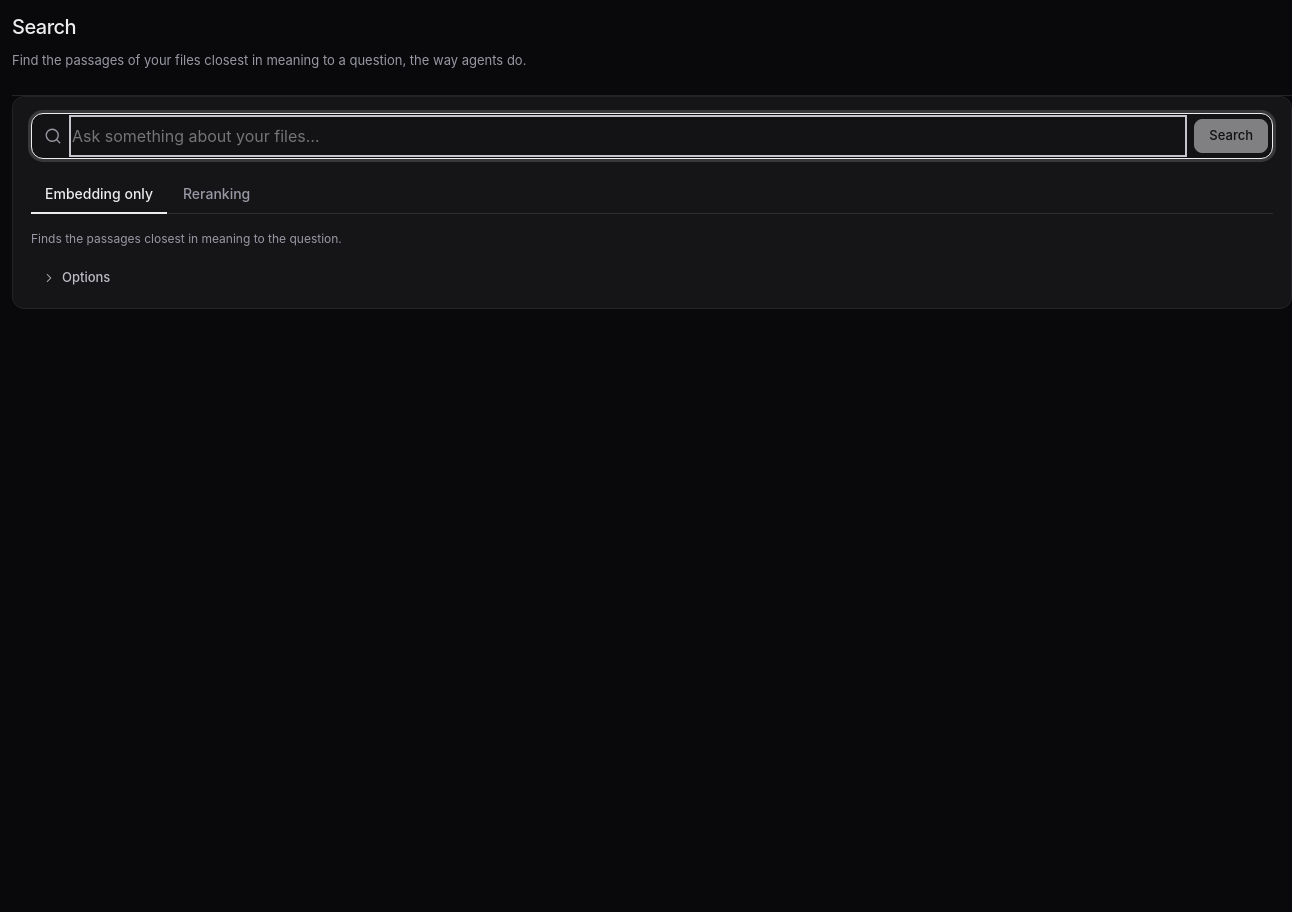
SearchPage › sends the reranking settings and shows results with their cross-encoder score
Click the tab "Reranking" at (217, 194), box x1=169 y1=175 x2=264 y2=214
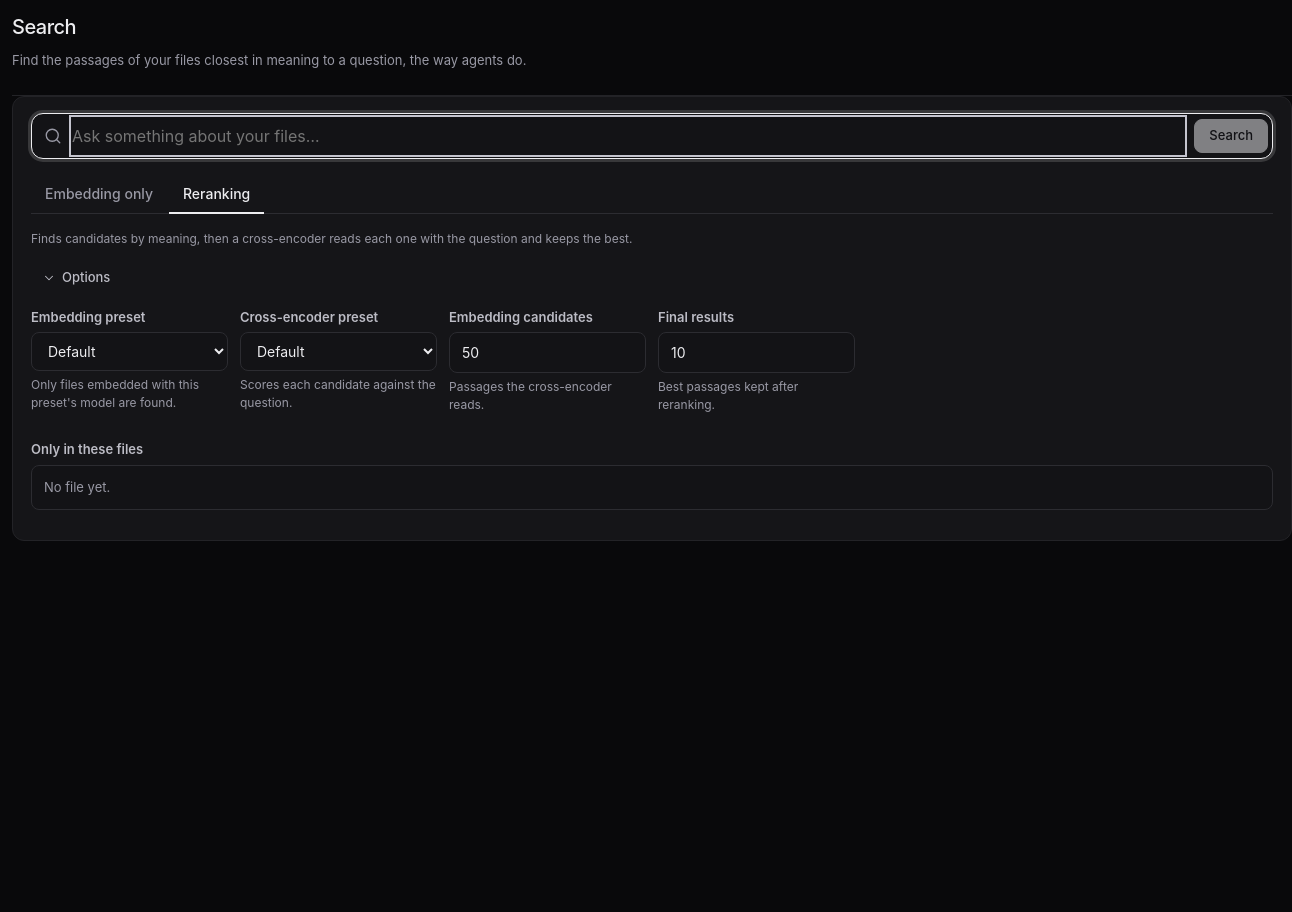
Select "reranker" in the dropdown labelled "Cross-encoder preset" at (338, 352), box x1=240 y1=332 x2=437 y2=371
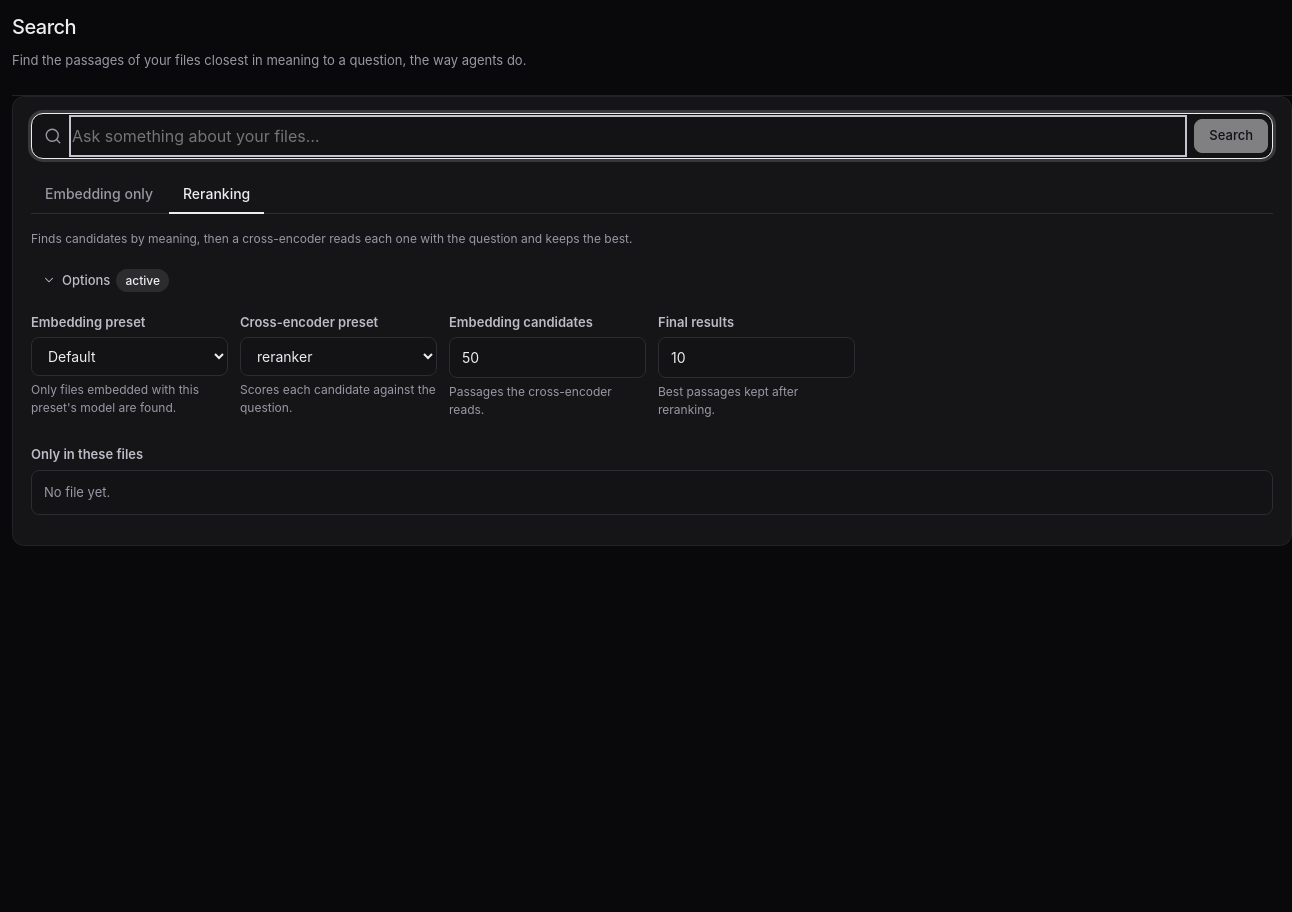
Replace the text in the number field labelled "Embedding candidates" with "30" at (548, 358), box x1=449 y1=338 x2=646 y2=378
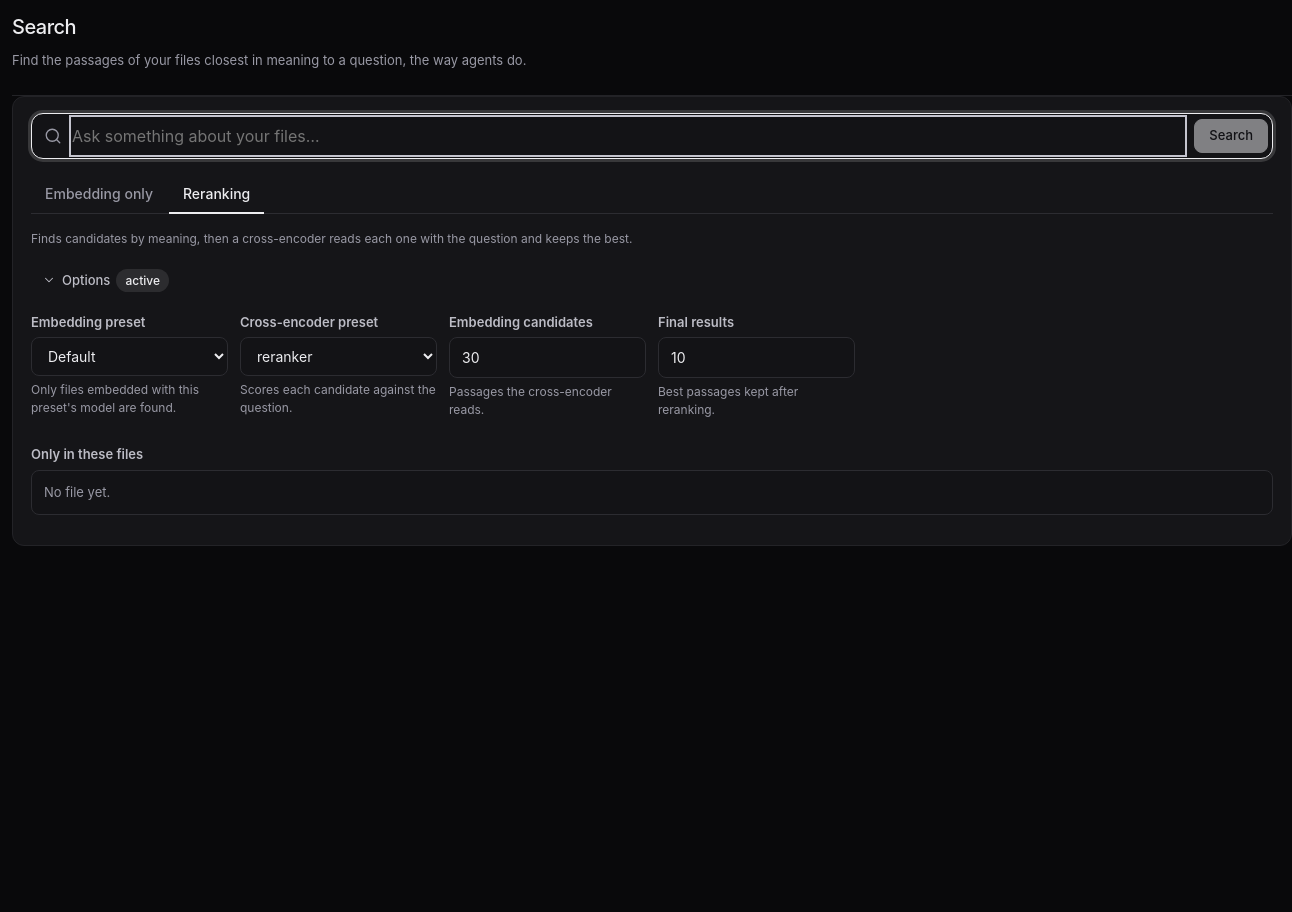
Replace the text in the number field labelled "Final results" with "5" at (756, 358), box x1=658 y1=338 x2=855 y2=378
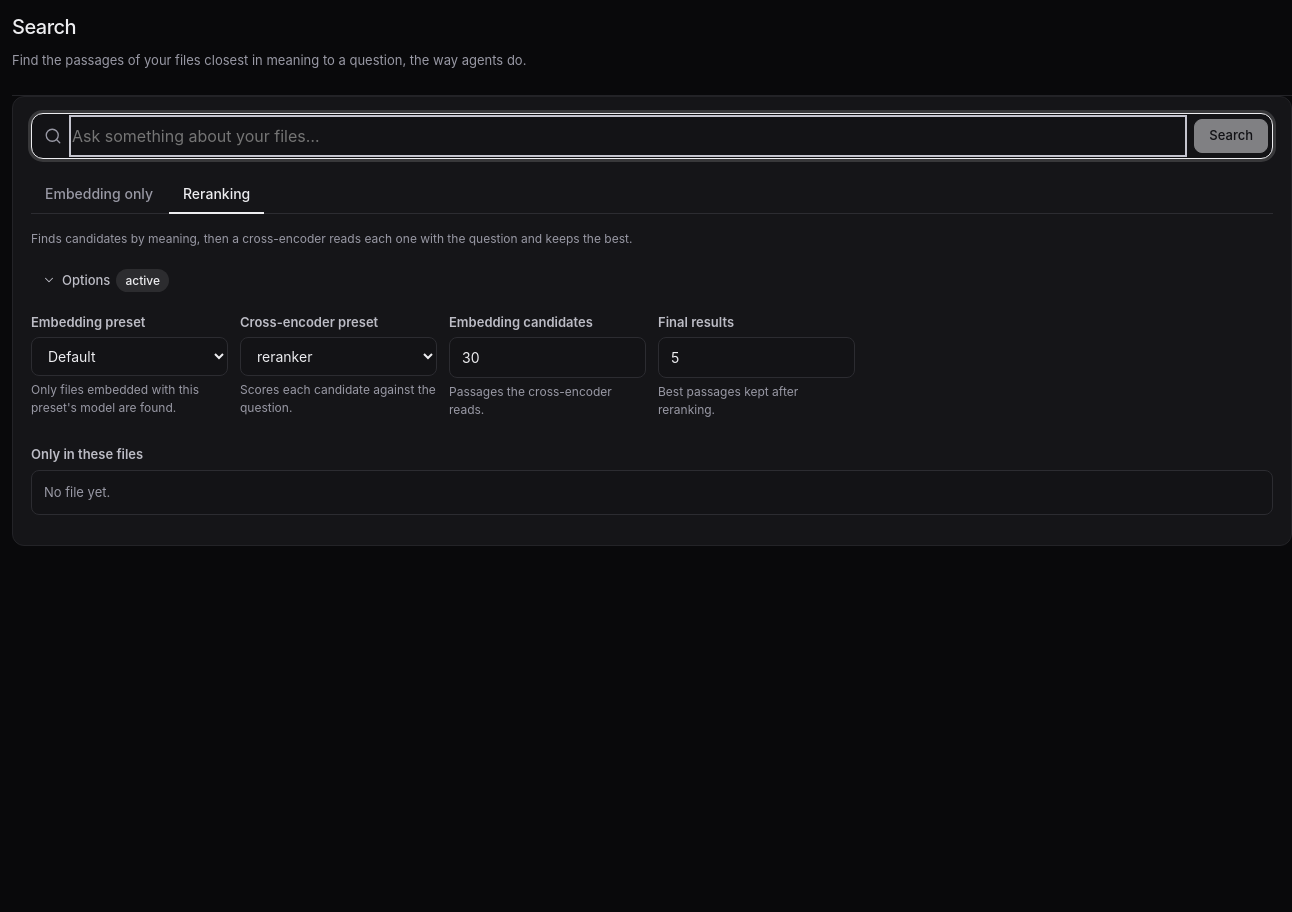
Type "green tea" into the field named "Search" at (628, 136), box x1=72 y1=118 x2=1184 y2=154
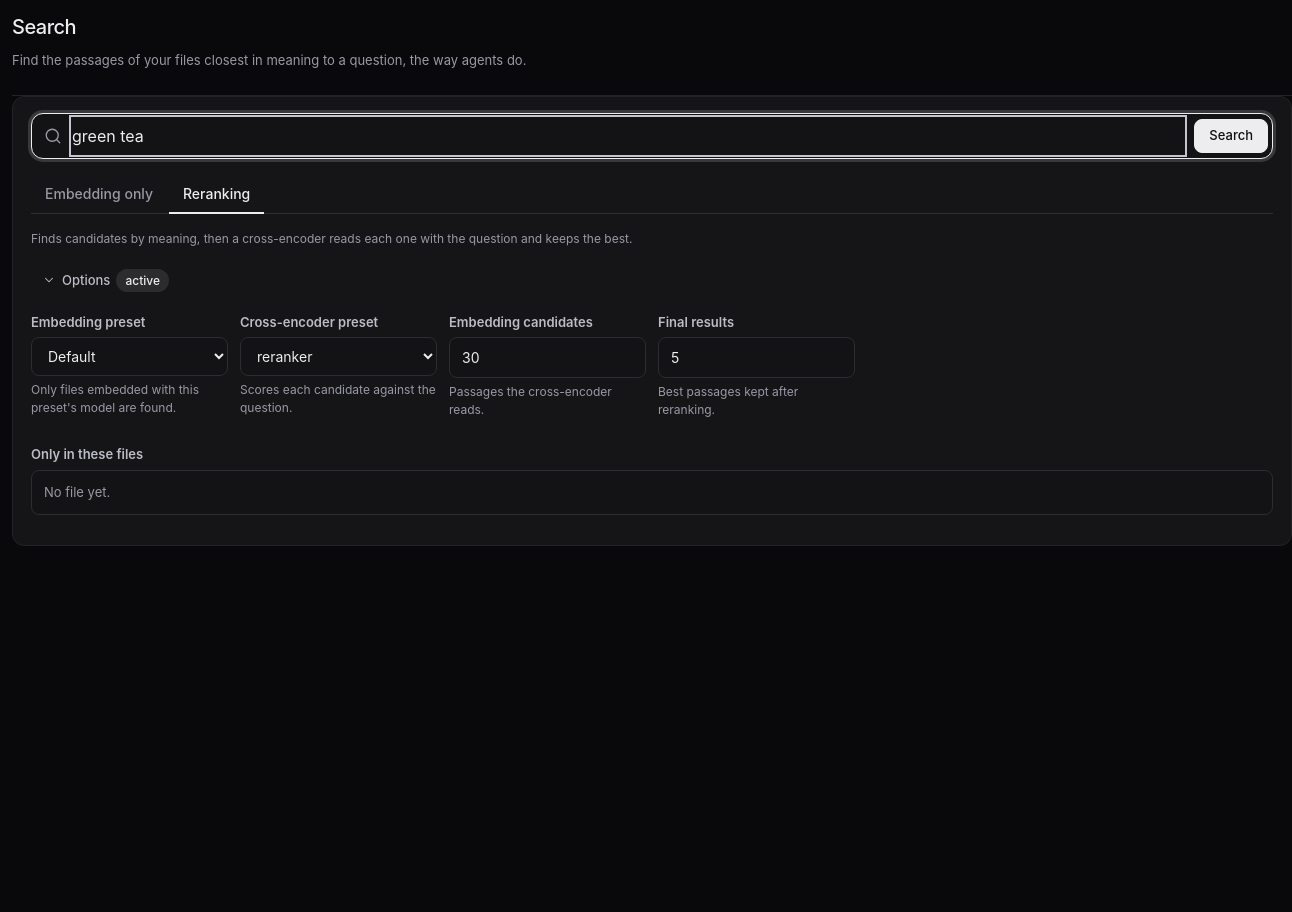
Click the button "Search" at (1231, 136), box x1=1194 y1=119 x2=1268 y2=153
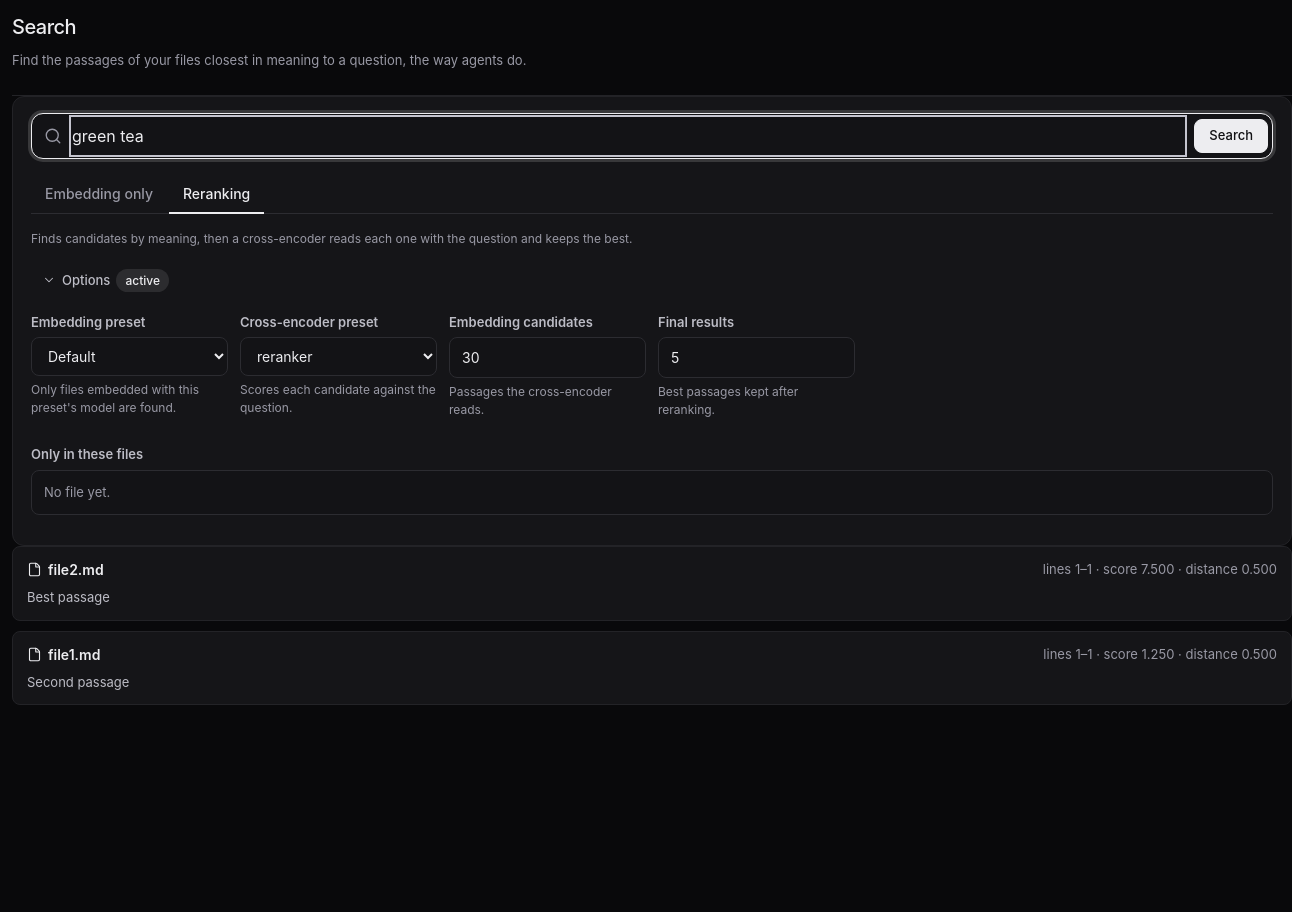
Expected: the text "Best passage" is shown, x1=27 y1=590 x2=110 y2=606
Expected: the text "lines 1–1 · score 7.500 · distance 0.500" is shown, x1=1043 y1=560 x2=1277 y2=580
